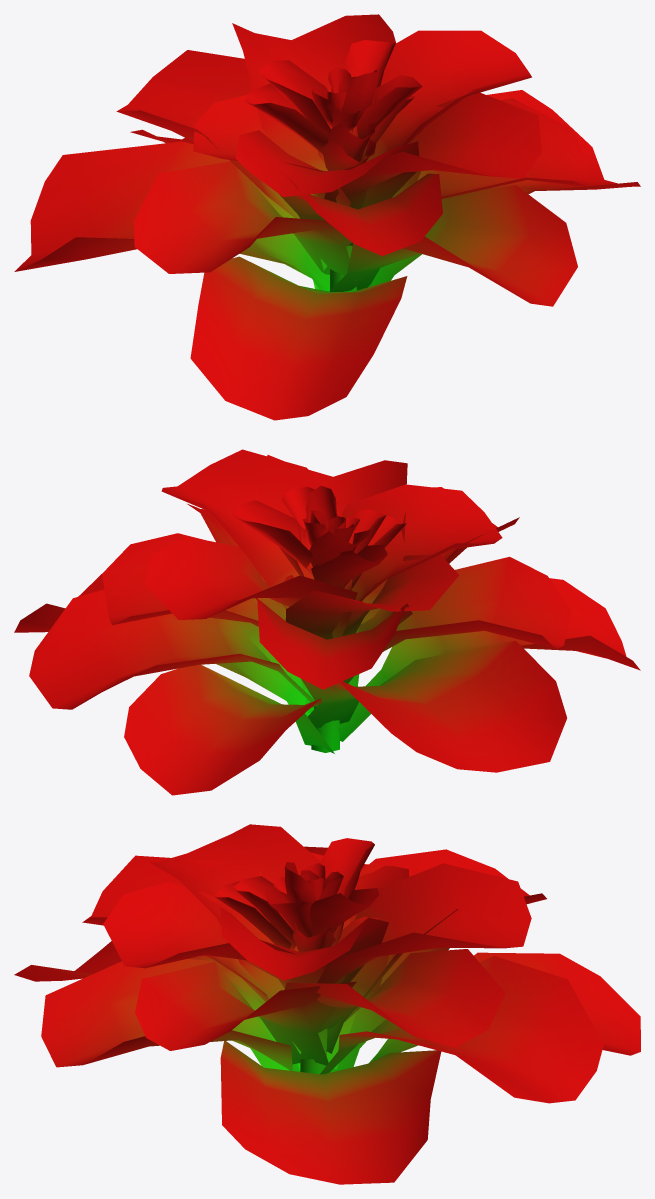
Rendered from White Ornamental Kale_LOD2_Var9_ue3ldcgja.fbx.
3 renders of one model, top to bottom at view 1: azimuth 30°, elevation 25°; view 2: azimuth 150°, elevation 25°; view 3: azimuth 270°, elevation 25°, orthographic. The views are drawn at different scales.
Parts seen in each view (by area): view 1: _fa99_Var9_LOD2; view 2: _fa99_Var9_LOD2; view 3: _fa99_Var9_LOD2.
Part boxes in pixels (left/top/right/bottom): _fa99_Var9_LOD2: left=14, top=14, right=640, bottom=420; _fa99_Var9_LOD2: left=14, top=449, right=640, bottom=795; _fa99_Var9_LOD2: left=14, top=824, right=640, bottom=1184.
Bounding box in the file's own units: 83.41 × 36.21 × 78.52.
